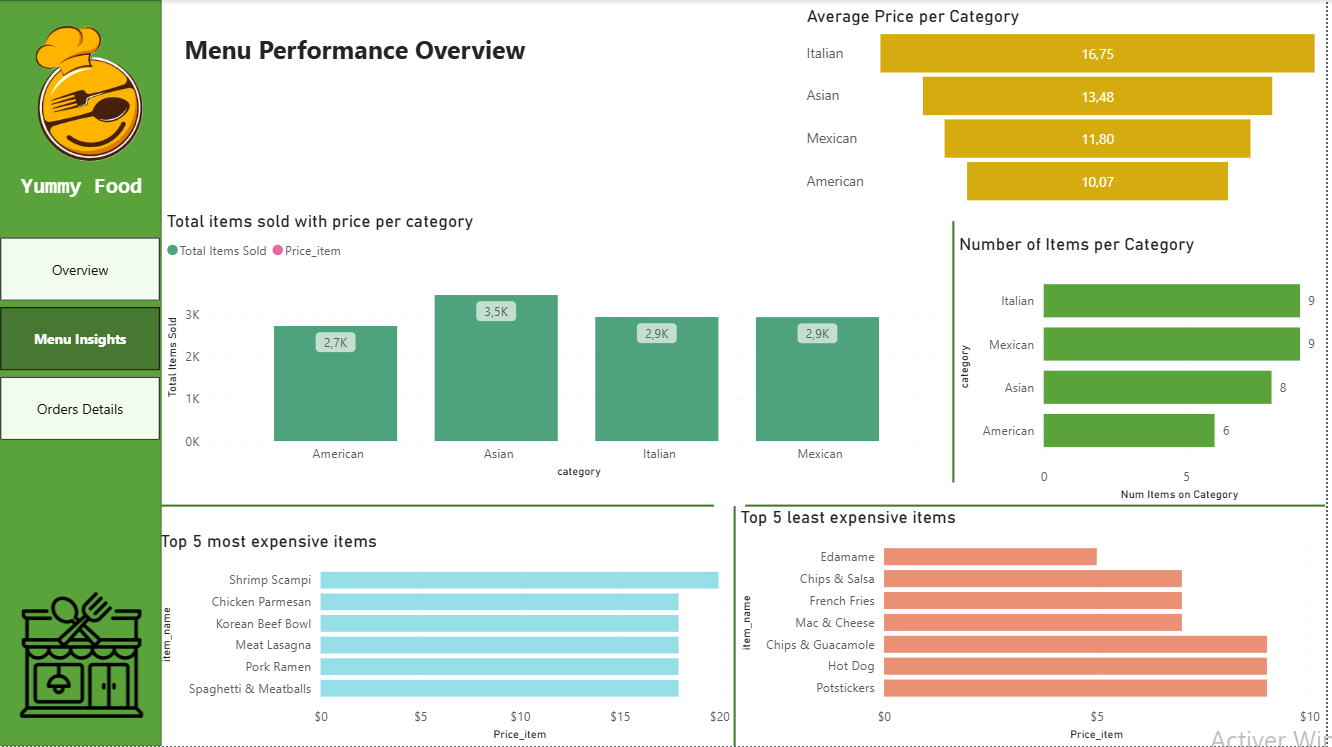

The page's visual inventory and layout, read from the dashboard file:
{"tool":"powerbi","page":{"name":"Menu Insights","canvas":[1280,720],"ordinal":1},"visuals":[{"type":"barChart","title":"Number of Items per Category","fields":{"Category":["restaurant_db menu_items.category"],"Y":["Mesures.Num Items on Category"]},"box":[921.7,225.6,358.3,263],"z":0},{"type":"funnel","title":"Average Price per Category","fields":{"Category":["restaurant_db menu_items.category"],"Y":["Mesures.AVG Price per Category"]},"box":[774.5,4.8,505.5,197.9],"z":1000},{"type":"lineClusteredColumnComboChart","title":"Total items sold with price per category","fields":{"Category":["restaurant_db menu_items.category","restaurant_db menu_items.item_name"],"Y":["Mesures.Total Items Sold"],"Y2":["restaurant_db menu_items.Price_item"]},"box":[156.8,202.7,764.9,263],"z":2000},{"type":"barChart","title":"Top 5 most expensive items","fields":{"Category":["restaurant_db menu_items.item_name"],"Y":["restaurant_db menu_items.Price_item"]},"box":[150.8,511.5,559.8,208.7],"z":3000},{"type":"barChart","title":"Top 5 least expensive items","fields":{"Category":["restaurant_db menu_items.item_name"],"Y":["restaurant_db menu_items.Price_item"]},"box":[710.6,488.6,569.4,231.6],"z":4000},{"type":"shape","box":[0,0,156.8,720.2],"z":5000},{"type":"image","box":[0,0,173.7,179.8],"z":6000},{"type":"actionButton","box":[9.7,144.8,139.9,68.8],"z":7000},{"type":"pageNavigator","box":[1.2,229.2,154.4,197.9],"z":8000},{"type":"image","box":[18.1,558.6,123.1,147.2],"z":9000},{"type":"textbox","box":[173.7,26.5,366.8,44.6],"z":10000},{"type":"shape","box":[884.3,213.5,73.6,252.1],"z":11000},{"type":"shape","box":[156.8,442.8,533.2,90.5],"z":12000},{"type":"shape","box":[720.2,442.8,559.8,90.5],"z":13000},{"type":"shape","box":[673.2,488.6,73.6,231.6],"z":14000}]}

Visuals, with their boxes in screenshot pixels (x1, y1, x2, y2), scaled from the page's 1280x720 canvas onto the 1332x747 screenshot:
"Number of Items per Category" barChart: [959,234,1331,507]
"Average Price per Category" funnel: [806,5,1331,210]
"Total items sold with price per category" lineClusteredColumnComboChart: [163,210,959,483]
"Top 5 most expensive items" barChart: [157,531,739,746]
"Top 5 least expensive items" barChart: [739,507,1331,746]
shape: [0,0,163,746]
image: [0,0,181,187]
actionButton: [10,150,156,222]
pageNavigator: [1,238,162,443]
image: [19,580,147,732]
textbox: [181,27,562,74]
shape: [920,222,997,483]
shape: [163,459,718,553]
shape: [749,459,1331,553]
shape: [701,507,777,746]
